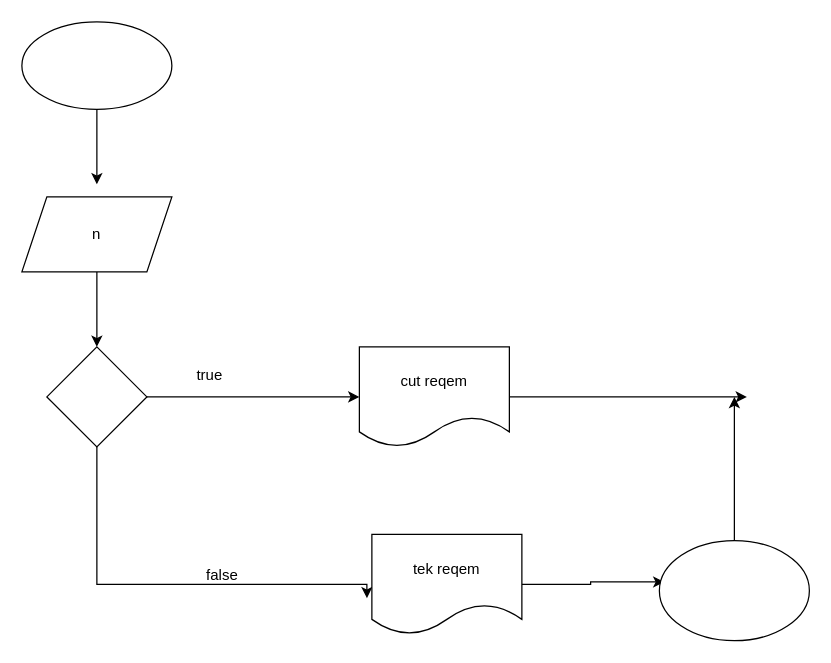
The diagram is 831 pixels wide and 663 high, and some of its shapes have lost their labels. The box of each missing label's shape, as (x1, y1, x2, y2) in pixels:
n%2==0: (46, 346, 147, 447)
start: (21, 21, 172, 109)
